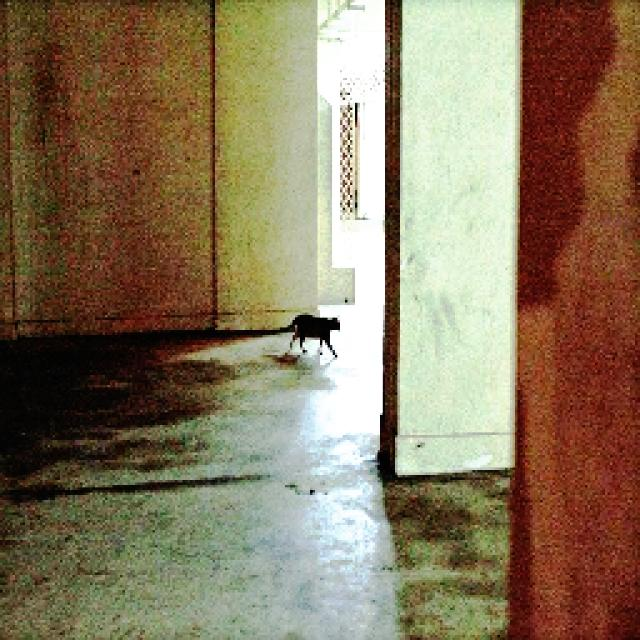cat: (283, 311, 345, 366)
